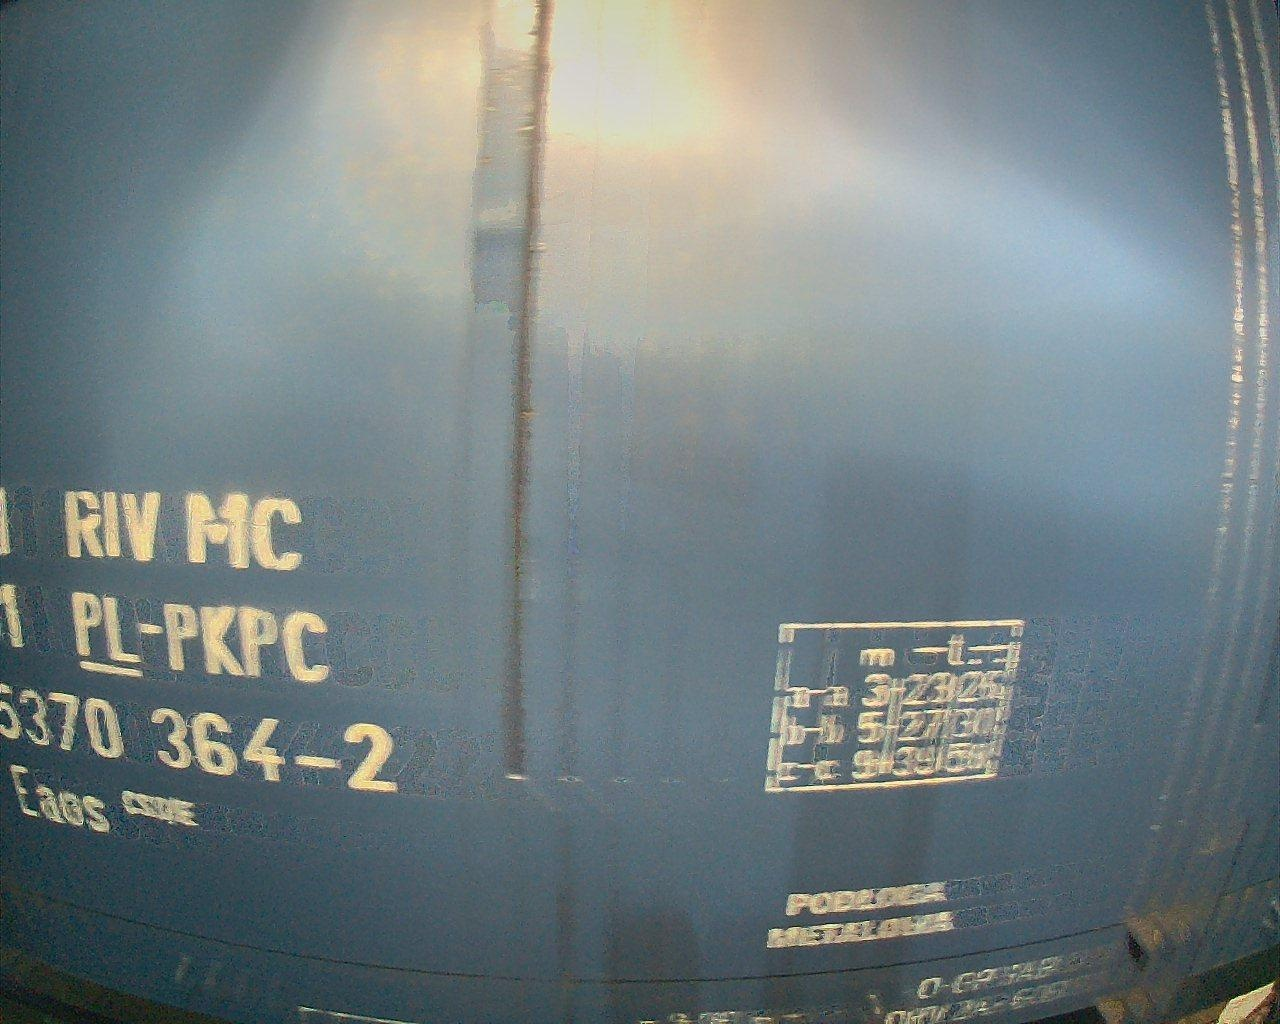UIC: (1, 488, 401, 835)
